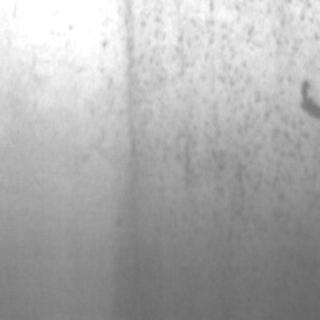pitted_surface: (119, 0, 317, 272)
